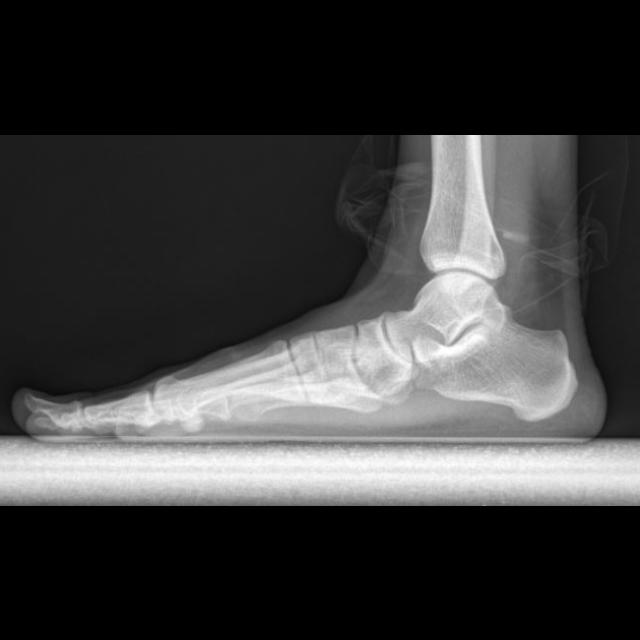a: (412, 311, 580, 422)
b: (355, 310, 413, 392)
c: (154, 336, 307, 419)
